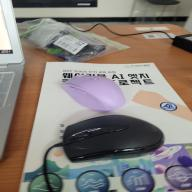mouse: (62, 115, 165, 163), (59, 72, 128, 112)
